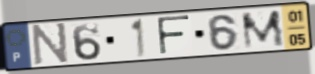1: (129, 16, 148, 59)
6: (206, 13, 240, 52), (70, 22, 103, 62)
F: (154, 14, 192, 57)
M: (239, 8, 287, 51)
N: (31, 21, 70, 67)
